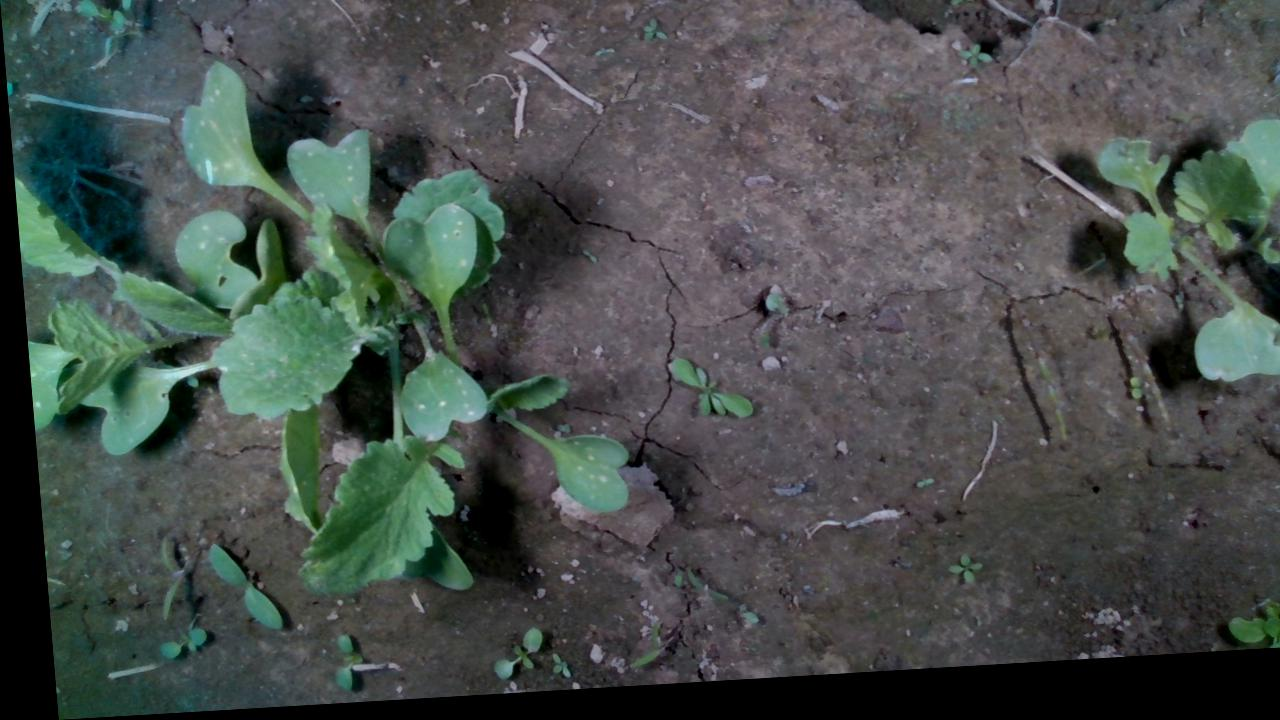weed: (196, 540, 272, 638), (659, 362, 745, 430), (476, 631, 533, 686), (144, 535, 175, 621), (317, 635, 352, 697), (146, 628, 196, 660), (933, 561, 973, 597), (951, 51, 991, 81), (638, 23, 665, 49), (537, 656, 558, 685), (1120, 387, 1136, 412), (904, 487, 927, 500)
